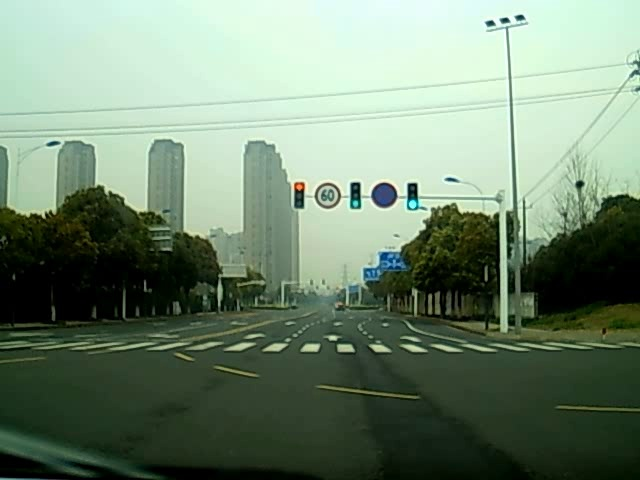Traffic_Light_go: (405, 182, 420, 212), (349, 182, 363, 210)
Traffic_Light_stop: (292, 184, 304, 209)
